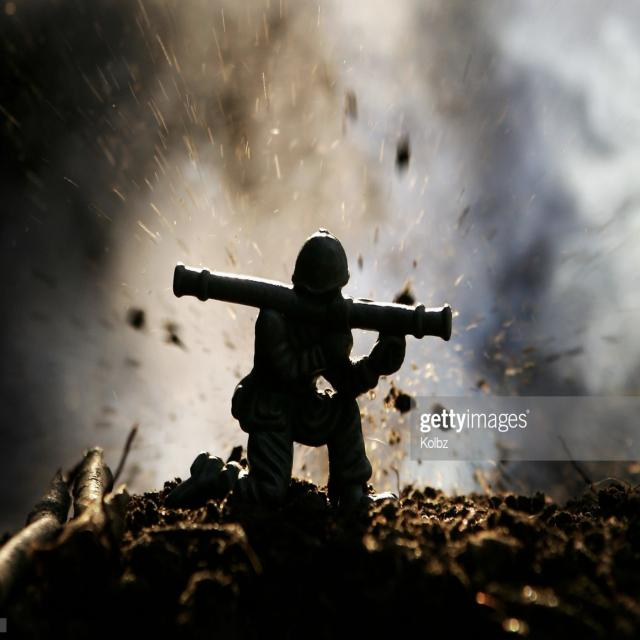bazooka: (168, 254, 461, 359)
